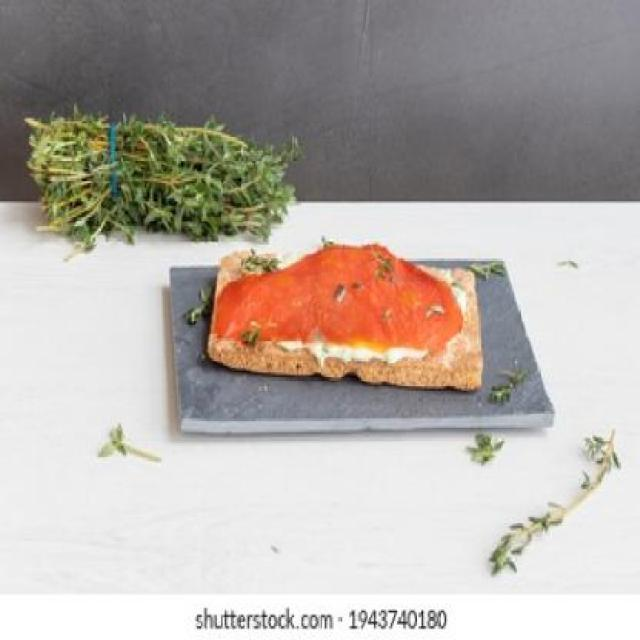salmon: (222, 208, 466, 365)
